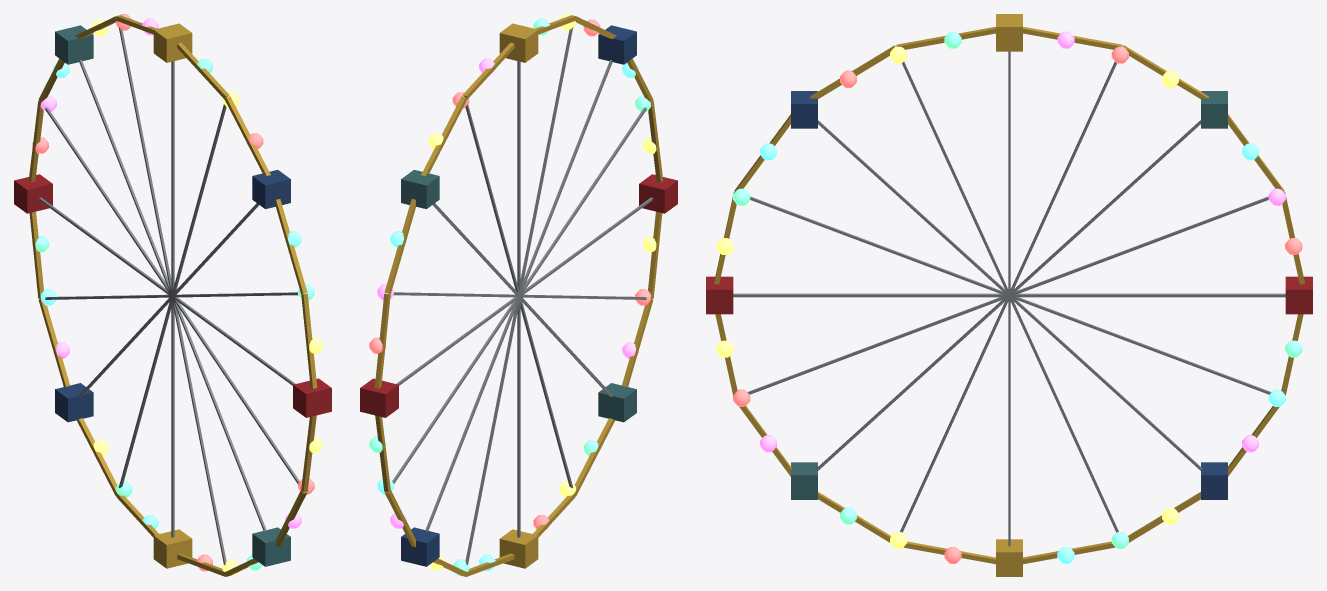
The model's file is mark-wheel-rim.glb.
3 renders of one model, left to right at view 1: azimuth 30°, elevation 25°; view 2: azimuth 150°, elevation 25°; view 3: azimuth 270°, elevation 25°, orthographic. The views are drawn at different scales.
Parts seen in each view (by area): view 1: 01_#8a8e92_noshadow, 00_#c9a13a_noshadow, 08_#2c4a7a_r320, 07_#a3262c_r320, 09_#c9a13a_r320, 10_#3f6f73_r320, 03_#ffd060_noshadow, 04_#60ff90_noshadow, 02_#ff6060_noshadow, 05_#60c0ff_noshadow, 06_#d070ff_noshadow; view 2: 01_#8a8e92_noshadow, 00_#c9a13a_noshadow, 10_#3f6f73_r320, 07_#a3262c_r320, 09_#c9a13a_r320, 08_#2c4a7a_r320, 03_#ffd060_noshadow, 04_#60ff90_noshadow, 02_#ff6060_noshadow, 06_#d070ff_noshadow, 05_#60c0ff_noshadow; view 3: 01_#8a8e92_noshadow, 00_#c9a13a_noshadow, 07_#a3262c_r320, 09_#c9a13a_r320, 08_#2c4a7a_r320, 10_#3f6f73_r320, 03_#ffd060_noshadow, 04_#60ff90_noshadow, 02_#ff6060_noshadow, 05_#60c0ff_noshadow, 06_#d070ff_noshadow.
Part boxes in pixels (x1,y1,x2,y2): 01_#8a8e92_noshadow: (39,27,299,564); 00_#c9a13a_noshadow: (28,15,317,576); 08_#2c4a7a_r320: (55,170,290,422); 07_#a3262c_r320: (14,174,331,417); 09_#c9a13a_r320: (153,23,192,568); 10_#3f6f73_r320: (55,25,290,566); 03_#ffd060_noshadow: (91,19,322,575); 04_#60ff90_noshadow: (32,58,314,570); 02_#ff6060_noshadow: (32,14,314,571); 05_#60c0ff_noshadow: (40,63,301,530); 06_#d070ff_noshadow: (40,18,301,528); 01_#8a8e92_noshadow: (392,27,652,564); 00_#c9a13a_noshadow: (374,15,663,576); 10_#3f6f73_r320: (401,170,636,422); 07_#a3262c_r320: (360,174,677,417); 09_#c9a13a_r320: (499,23,538,568); 08_#2c4a7a_r320: (401,25,636,566); 03_#ffd060_noshadow: (428,14,659,570); 04_#60ff90_noshadow: (369,18,651,575); 02_#ff6060_noshadow: (369,19,651,530); 06_#d070ff_noshadow: (377,58,638,528); 05_#60c0ff_noshadow: (377,63,638,571); 01_#8a8e92_noshadow: (733,51,1285,546); 00_#c9a13a_noshadow: (714,26,1304,564); 07_#a3262c_r320: (706,276,1312,314); 09_#c9a13a_r320: (996,14,1022,576); 08_#2c4a7a_r320: (791,91,1227,499); 10_#3f6f73_r320: (791,91,1227,499); 03_#ffd060_noshadow: (716,46,1178,548); 04_#60ff90_noshadow: (733,31,1302,548); 02_#ff6060_noshadow: (733,46,1302,563); 05_#60c0ff_noshadow: (760,143,1285,563); 06_#d070ff_noshadow: (760,31,1285,452).
Bounding box in the file's own units: 1.7 × 33.5 × 33.5.
